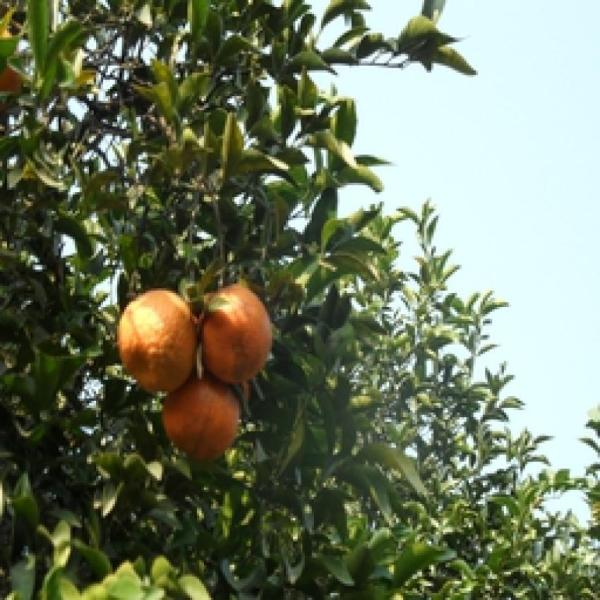Canker: (113, 286, 202, 394), (198, 285, 276, 386), (160, 380, 240, 465)
